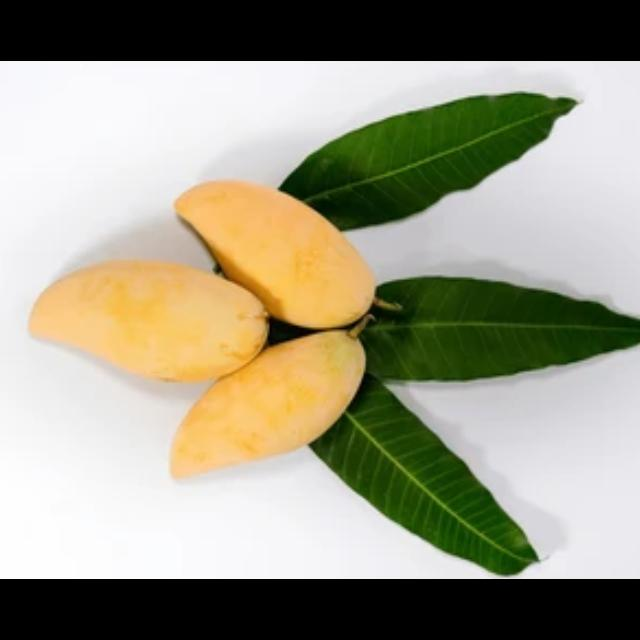mango: (25, 257, 268, 385), (172, 176, 375, 326), (167, 331, 369, 477)
